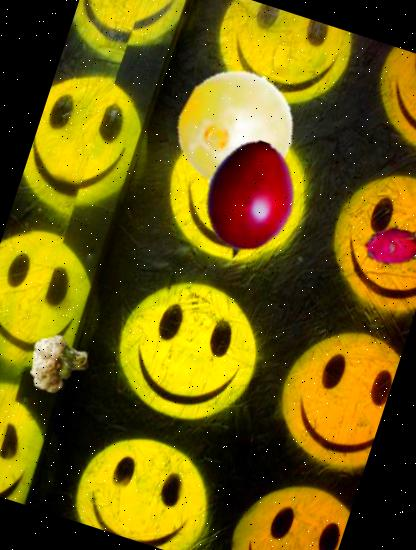Cauliflower: (22, 326, 98, 402)
Grape: (160, 53, 311, 204)
Pitahaya: (355, 207, 416, 285)
Tamarillo: (172, 125, 324, 276)
